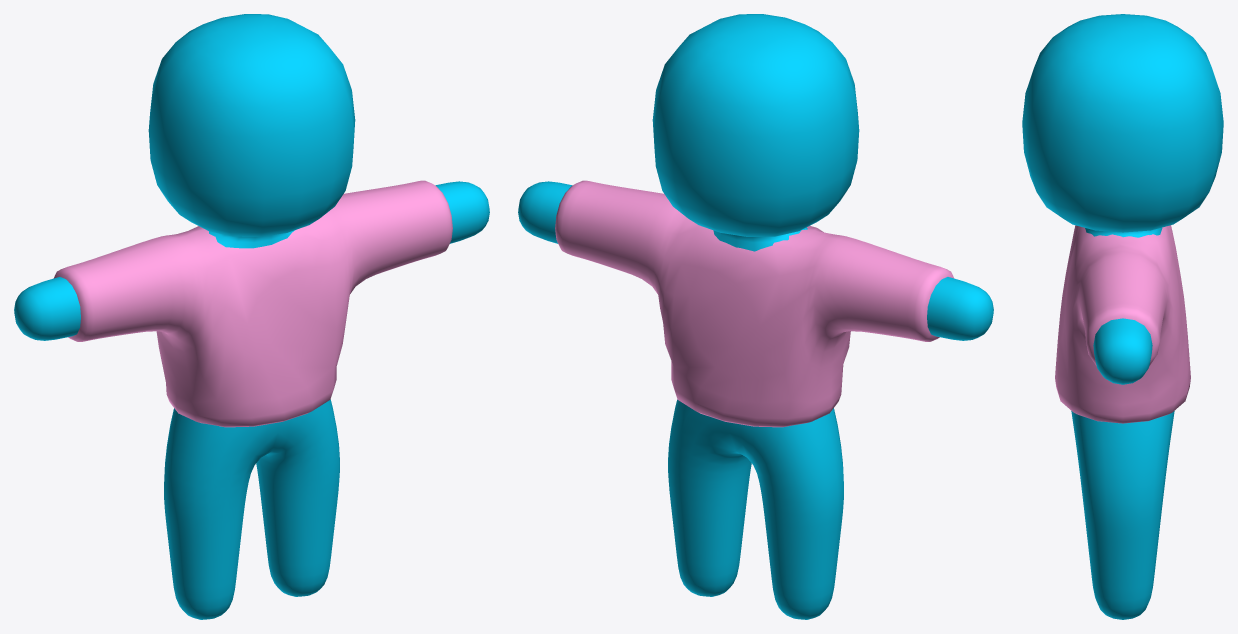
Rendered from ManRunner.fbx.
3 views of the same model, side by side, from view 1: azimuth 30°, elevation 25°; view 2: azimuth 150°, elevation 25°; view 3: azimuth 270°, elevation 25° (orthographic).
Parts seen in each view (by area): view 1: Cube; view 2: Cube; view 3: Cube.
Boxes of the visible parts, x1,y1,x2,y2 form: Cube: [14, 14, 489, 619]; Cube: [518, 14, 993, 619]; Cube: [1022, 14, 1223, 619].
Bounding box in the file's own units: 984 × 1163 × 375.
